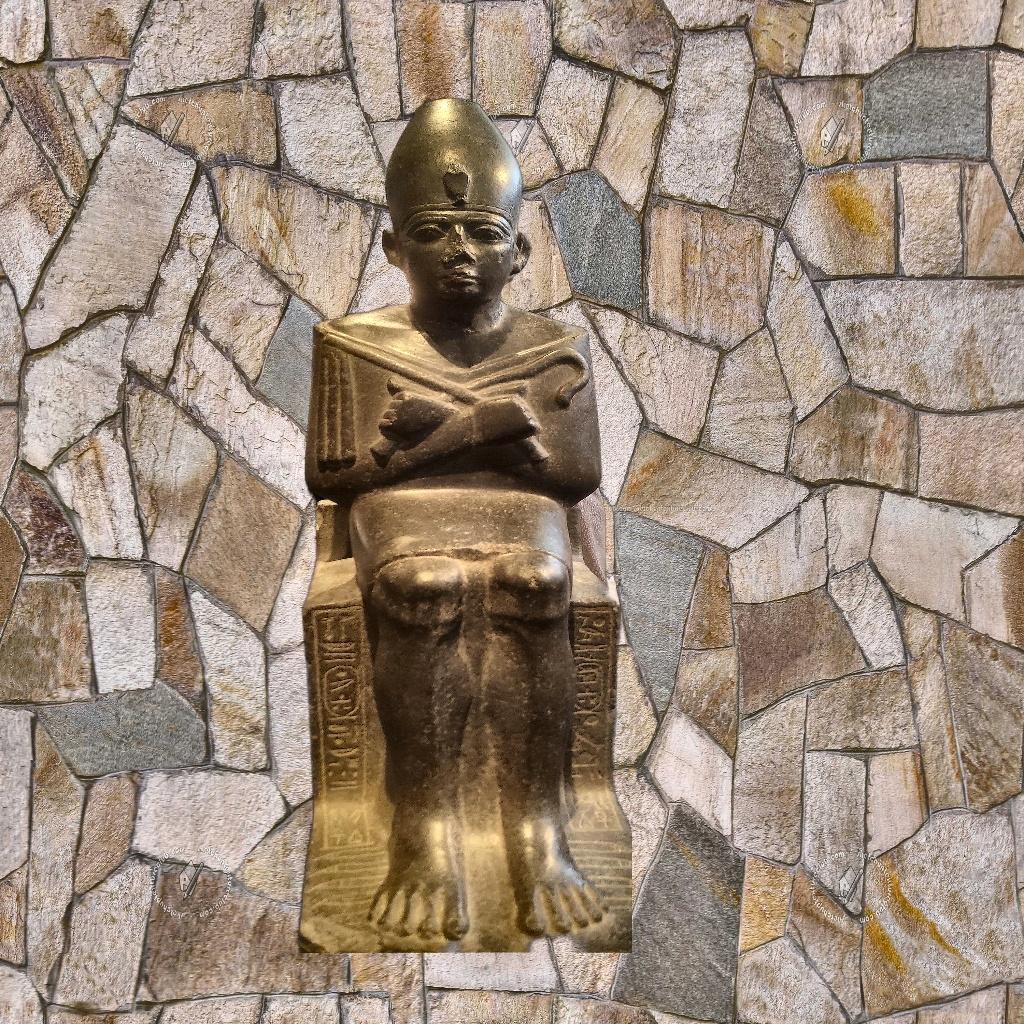Statue of Sobekhotep V: (288, 92, 632, 954)
